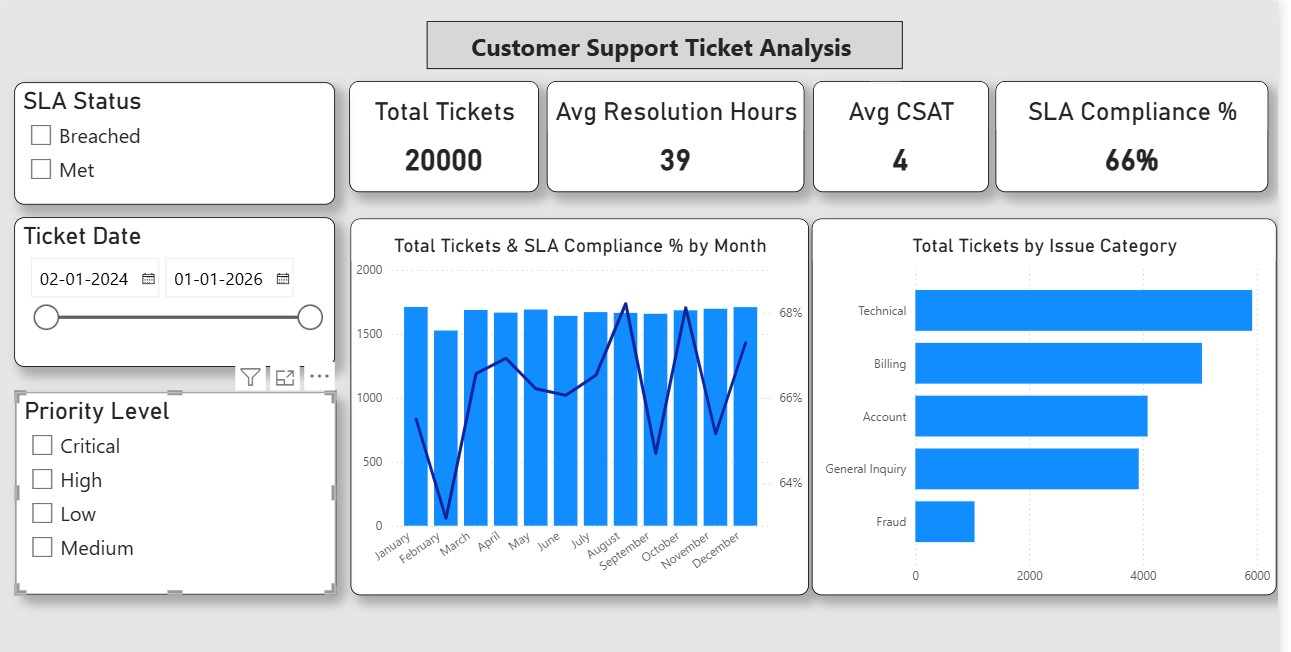

What the dashboard file says about the page in this screenshot:
{"tool":"powerbi","page":{"name":"Page 1","canvas":[1280,720],"ordinal":0},"visuals":[{"type":"card","title":"Total Tickets","fields":{"Values":["Customer_Support_Tickets.Total_Tickets"]},"box":[351.3,80.2,189.4,111.1],"z":0},{"type":"card","title":"Avg Resolution Hours","fields":{"Values":["Customer_Support_Tickets.Avg Resolution Hours"]},"box":[548.9,80.2,258,111.1],"z":1000},{"type":"card","title":"Avg CSAT","fields":{"Values":["Customer_Support_Tickets.Avg CSAT"]},"box":[815.1,80.2,175.6,111.1],"z":2000},{"type":"card","title":"SLA Compliance %","fields":{"Values":["Customer_Support_Tickets.SLA Compliance %"]},"box":[997.6,79.6,273.1,111.1],"z":3000},{"type":"slicer","title":"SLA Status","fields":{"Values":["Customer_Support_Tickets.SLA_Status"]},"box":[16.5,81,321.1,122.1],"z":3001},{"type":"slicer","title":"Ticket Date","fields":{"Values":["Customer_Support_Tickets.Submission_Date"]},"box":[16.5,216.8,321.1,149.6],"z":3002},{"type":"textbox","box":[428.1,20,476.2,48],"z":3003},{"type":"lineClusteredColumnComboChart","title":"Total Tickets & SLA Compliance % by Month","fields":{"Category":["Customer_Support_Tickets.Submission_Date.Variation.Date Hierarchy.Month"],"Y":["Customer_Support_Tickets.Total_Tickets"],"Y2":["Customer_Support_Tickets.SLA Compliance %"]},"box":[352.3,217.2,458.4,376.4],"z":3004},{"type":"barChart","title":"Total Tickets by Issue Category","fields":{"Category":["Customer_Support_Tickets.Issue_Category"],"Y":["Customer_Support_Tickets.Total_Tickets"]},"box":[813.1,217.2,464.5,376.4],"z":3005},{"type":"slicer","title":"Priority Level","fields":{"Values":["Customer_Support_Tickets.Priority_Level"]},"box":[16.9,390.9,320.9,202.7],"z":3006}]}

Visuals, with their boxes on the page's 1280x720 design canvas (x1, y1, x2, y2). These are canvas units, not pixel positions in the 1291x652 screenshot, which may show the page scaled, cropped or inside an application window:
"Total Tickets" card: bbox=[351, 80, 541, 191]
"Avg Resolution Hours" card: bbox=[549, 80, 807, 191]
"Avg CSAT" card: bbox=[815, 80, 991, 191]
"SLA Compliance %" card: bbox=[998, 80, 1271, 191]
"SLA Status" slicer: bbox=[16, 81, 338, 203]
"Ticket Date" slicer: bbox=[16, 217, 338, 366]
textbox: bbox=[428, 20, 904, 68]
"Total Tickets & SLA Compliance % by Month" lineClusteredColumnComboChart: bbox=[352, 217, 811, 594]
"Total Tickets by Issue Category" barChart: bbox=[813, 217, 1278, 594]
"Priority Level" slicer: bbox=[17, 391, 338, 594]
